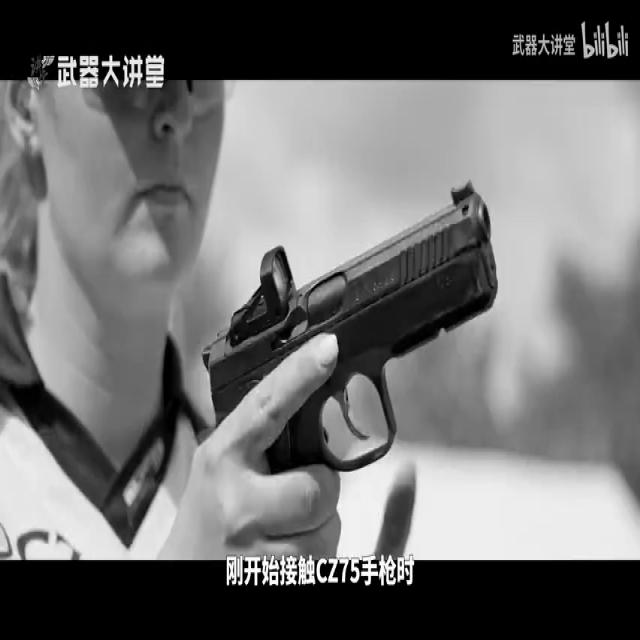Hand-Gun: (217, 179, 516, 512)
